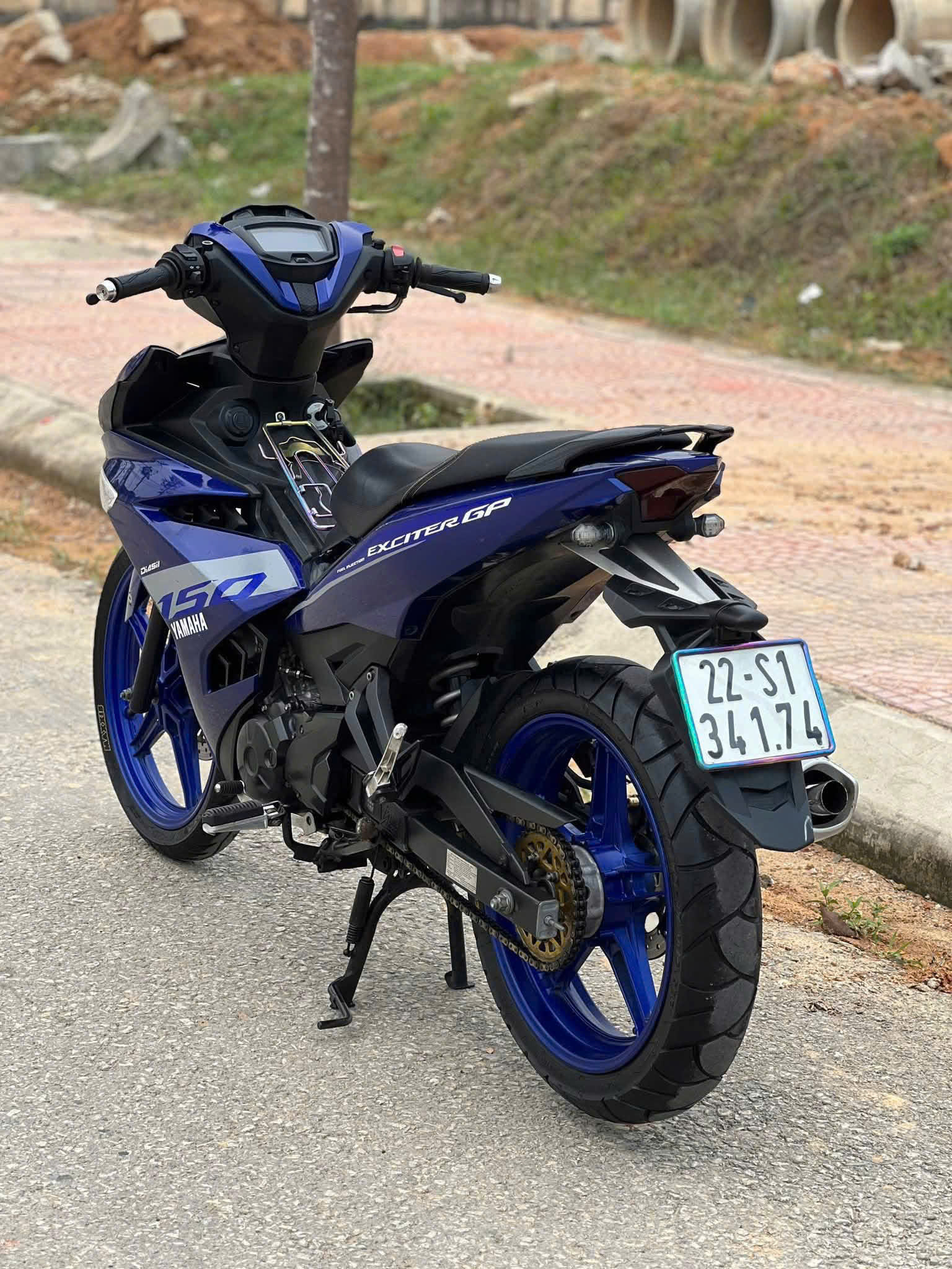Bien-so: (674, 642, 847, 776)
